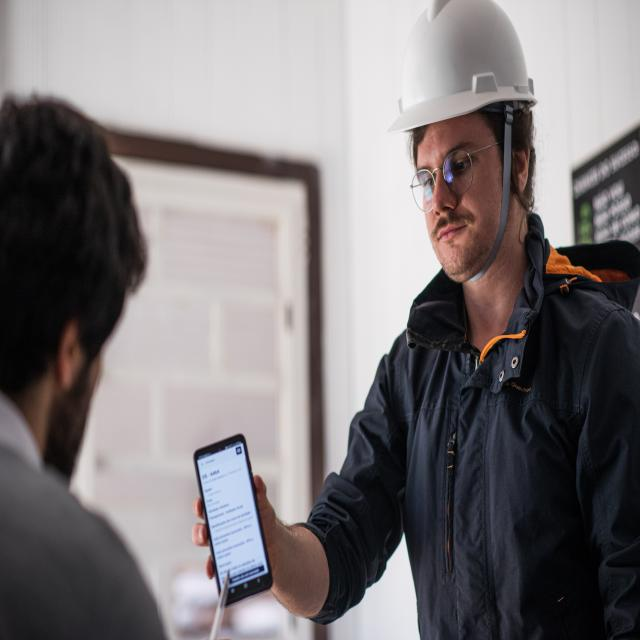capacete: (383, 0, 542, 142)
